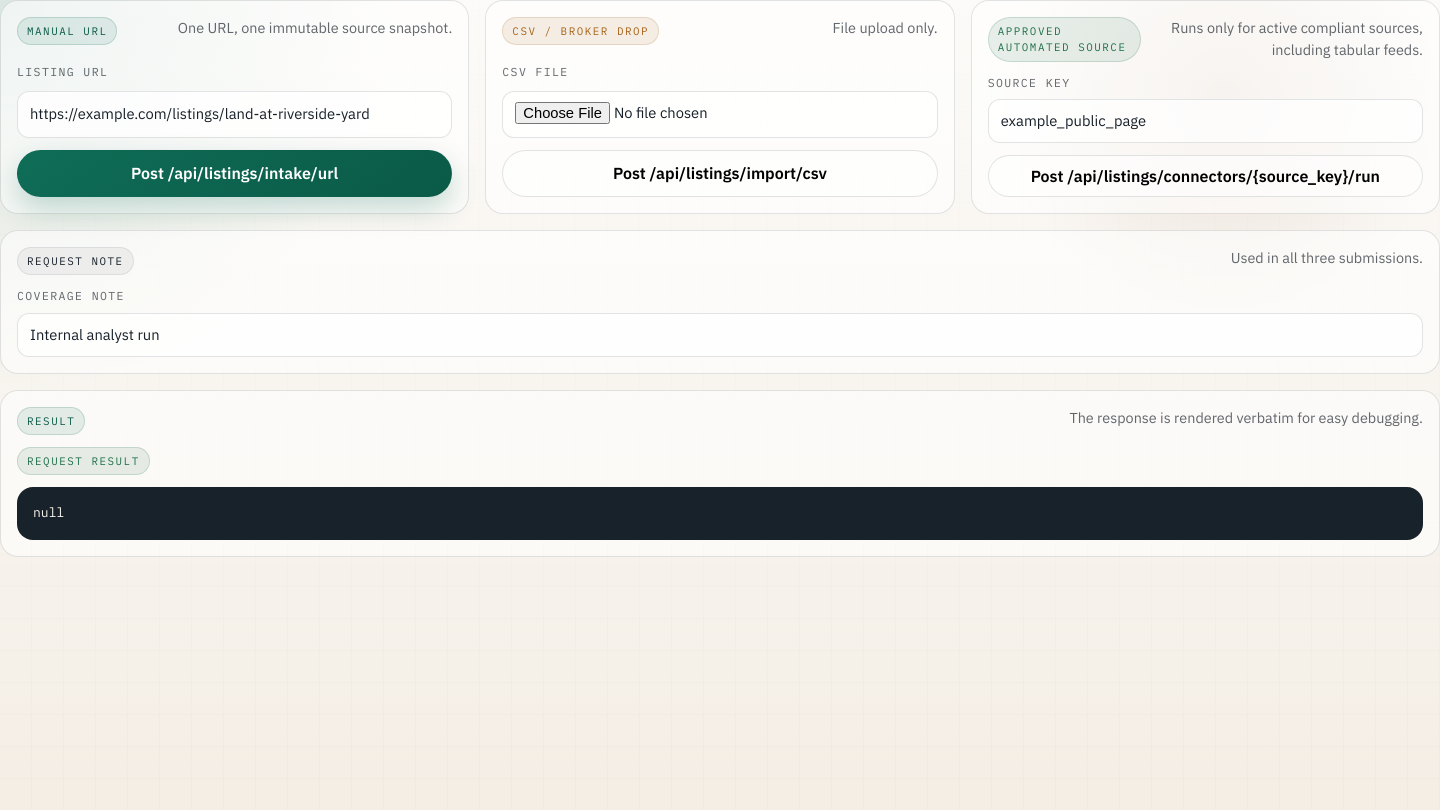
Test: ListingRunPanel › shows an error when CSV submit is attempted without a file
This screenshot has width=1440, height=810.
Click the button "Post /api/listings/import/csv" at x=720, y=173, box 502,150 -> 938,197
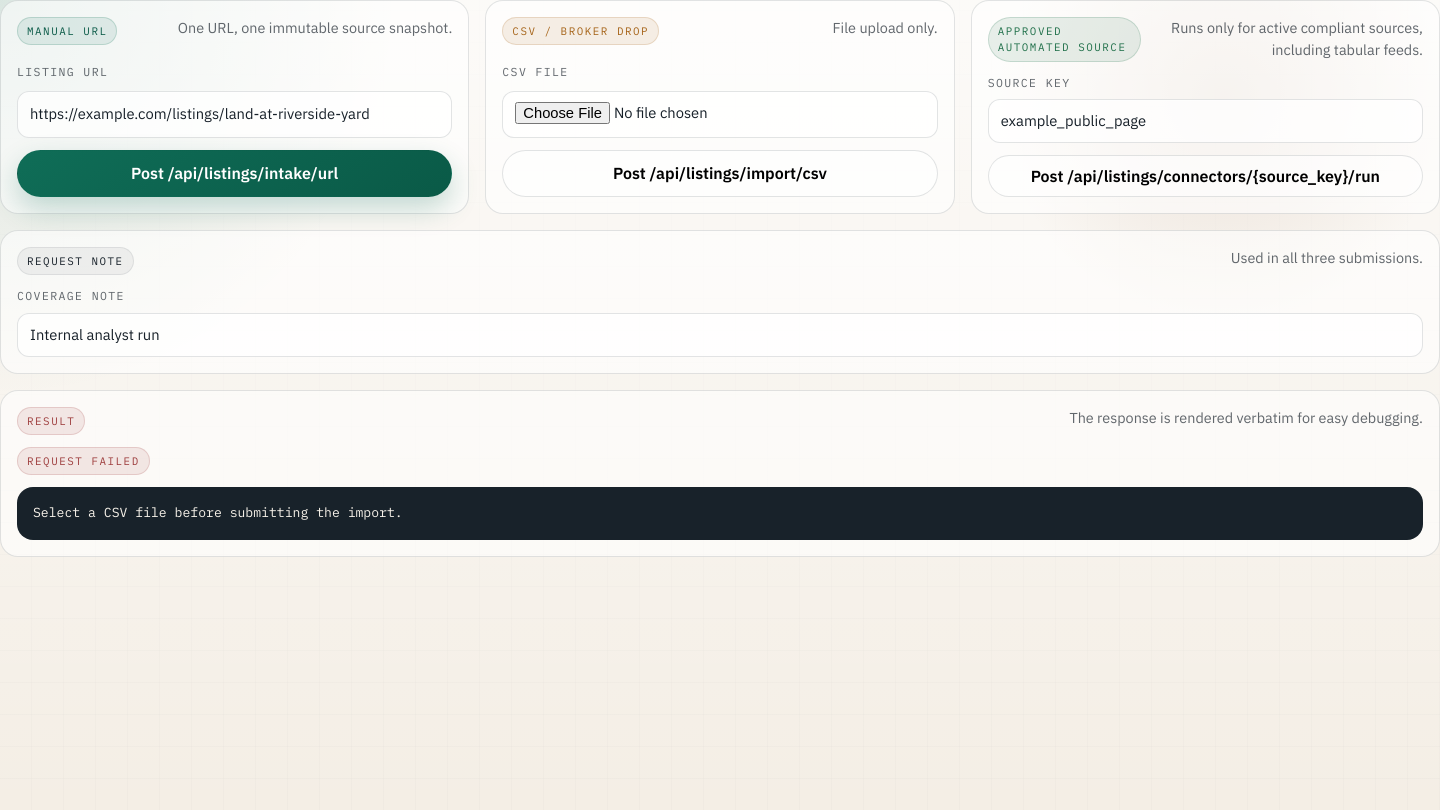
Expected: the text "Select a CSV file before submitting the import." is shown, 17,487 -> 1423,540
